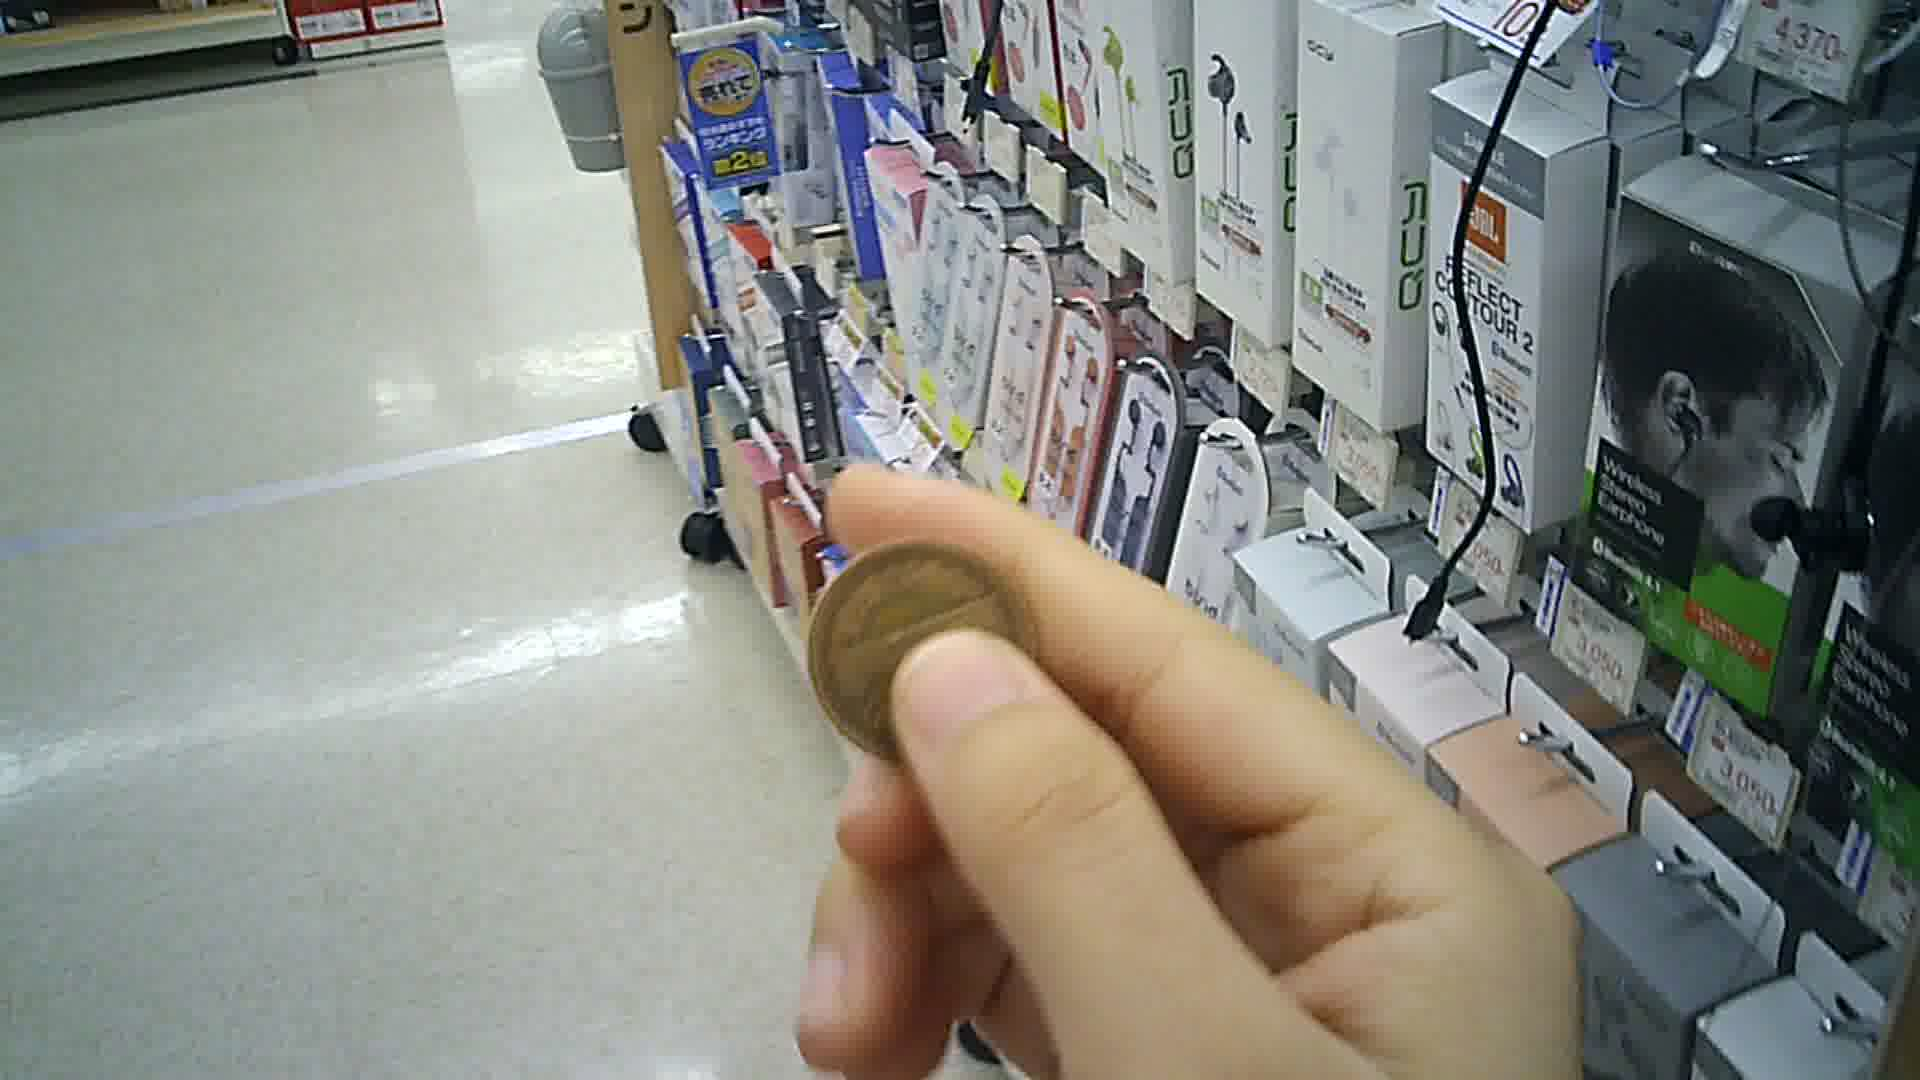10 Yen: (800, 534, 1046, 760)
